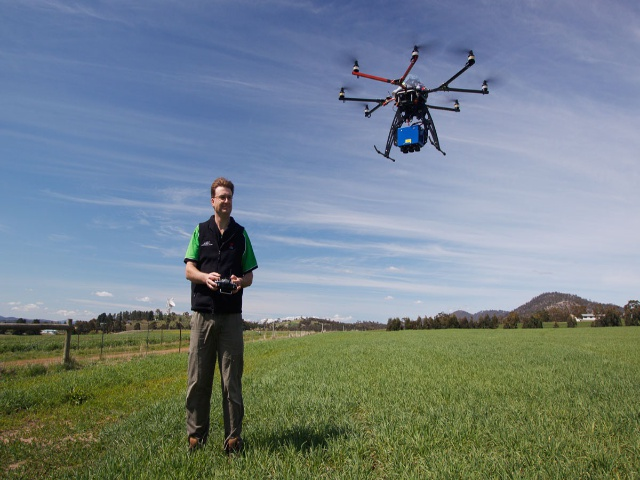drone: (329, 20, 512, 170)
